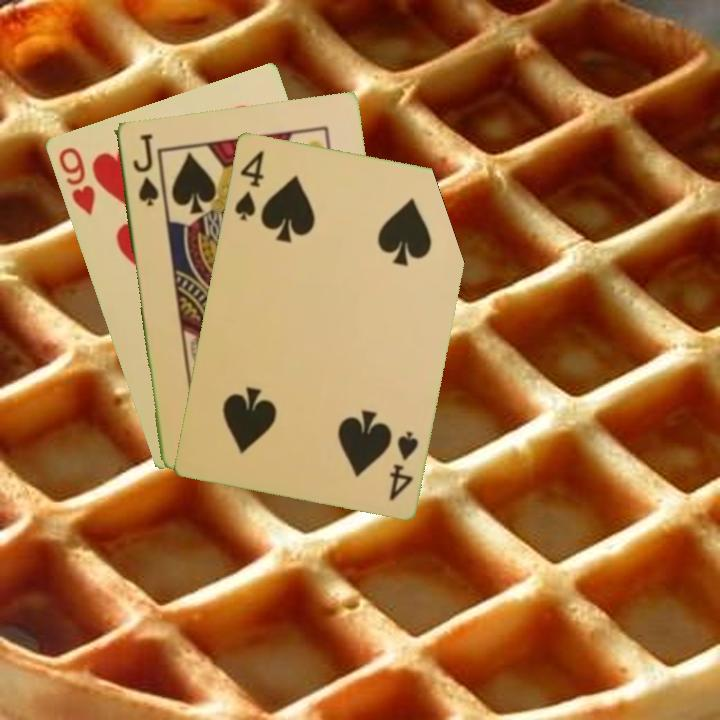4s: (231, 146, 267, 223), (385, 427, 421, 504)
9h: (54, 143, 98, 218)
Js: (129, 130, 160, 209)
